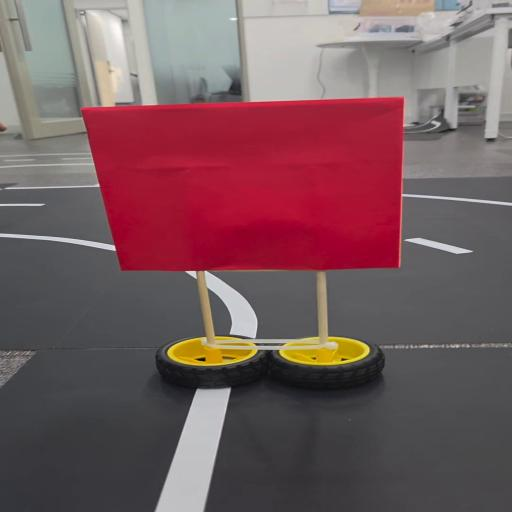Sign_A: (85, 99, 418, 395)
